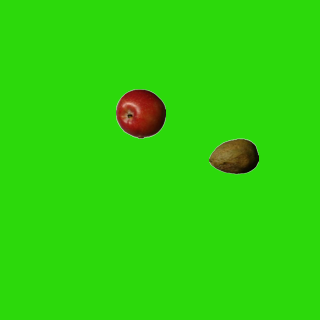Apple Braeburn: (115, 88, 165, 138)
Papaya: (208, 131, 258, 181)
